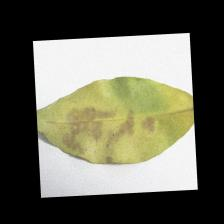black spot: (63, 103, 160, 156)
